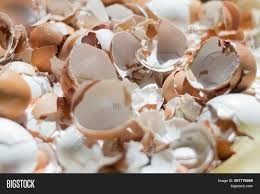kitchen_waste: (70, 76, 147, 144), (183, 33, 259, 100), (203, 91, 260, 172), (51, 126, 132, 174), (58, 41, 122, 99), (133, 15, 193, 76), (26, 19, 79, 74), (106, 29, 149, 78), (1, 71, 35, 121)
